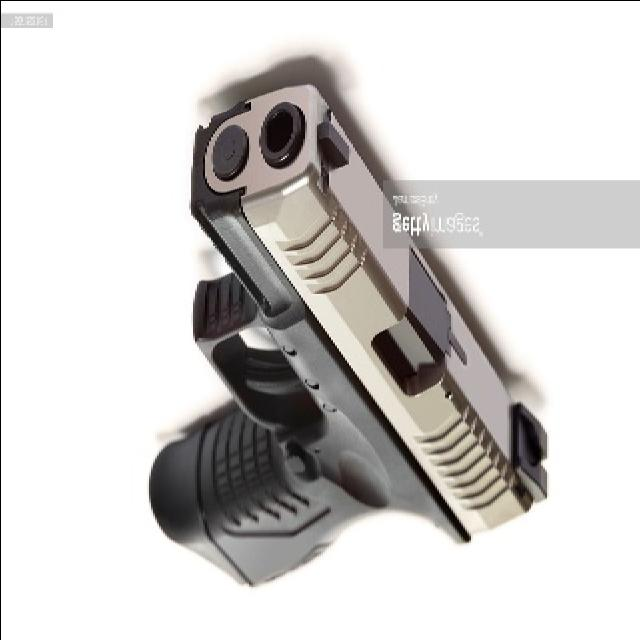handgun: (129, 78, 547, 607)
